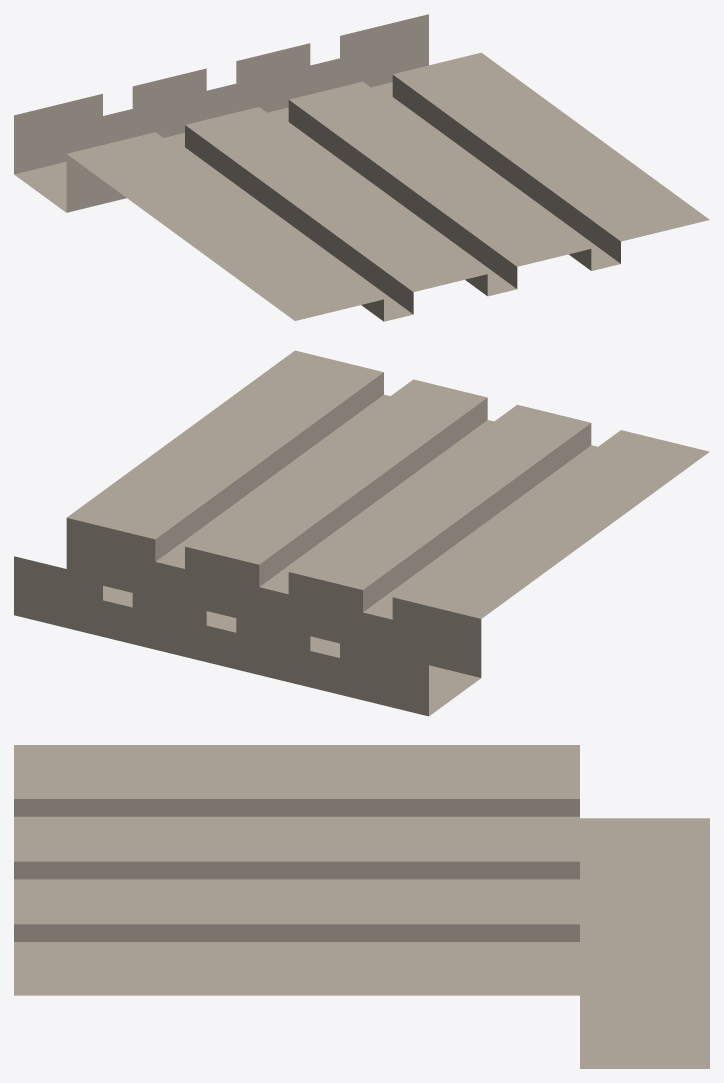
The model's file is TechoMitad.fbx.
The picture shows the model from 3 angles, top to bottom: view 1: azimuth 30°, elevation 25°; view 2: azimuth 150°, elevation 25°; view 3: azimuth 270°, elevation 25°; orthographic projection. The views are drawn at different scales.
Parts seen in each view (by area): view 1: Techo; view 2: Techo; view 3: Techo.
Part boxes in pixels (x1,y1,x2,y2): Techo: (14, 14, 709, 321); Techo: (14, 350, 709, 716); Techo: (14, 745, 709, 1068).
Bounding box in the file's own units: 726 × 98.65 × 851.
